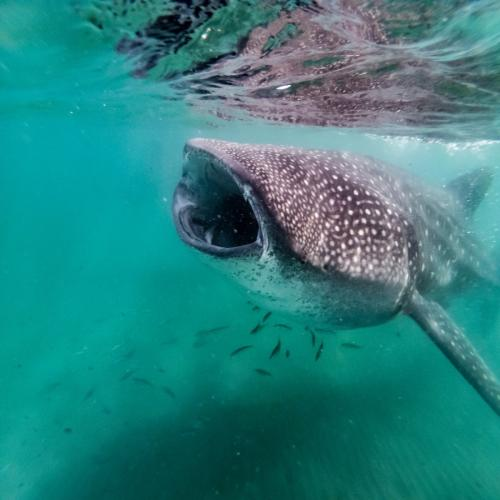shark-endangered: (170, 136, 500, 420)
